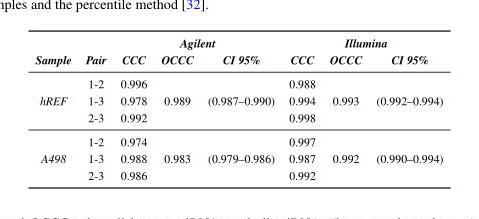table: (34, 35, 442, 182)
table column: (199, 35, 281, 182), (368, 35, 442, 182), (321, 35, 368, 182), (153, 35, 199, 182), (34, 35, 77, 182), (112, 35, 153, 182), (281, 35, 321, 182), (77, 35, 112, 182)
table column header: (34, 35, 442, 71)
table row: (34, 108, 442, 129), (34, 51, 442, 71), (34, 71, 442, 91), (34, 129, 442, 149), (34, 91, 442, 108), (34, 149, 442, 166), (34, 35, 442, 51), (34, 166, 442, 182)
table spanning cell: (112, 35, 281, 51), (281, 35, 442, 51), (34, 91, 77, 149), (34, 35, 77, 71), (34, 149, 77, 182), (77, 35, 112, 71)
